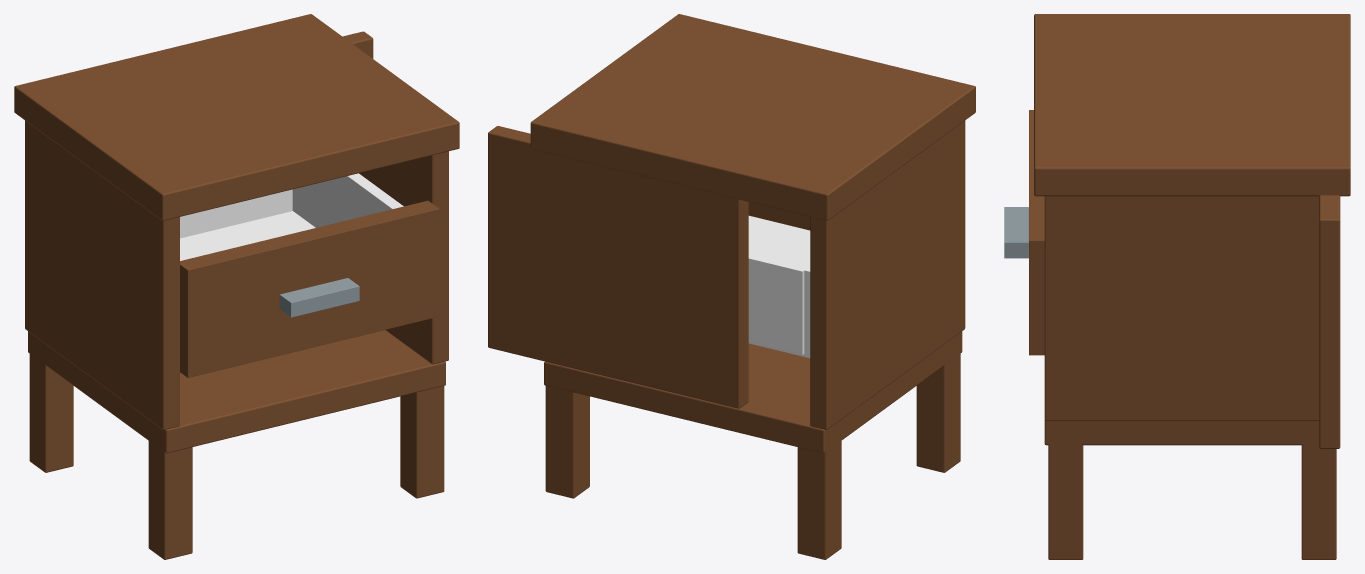
Rendered from source-edit.glb.
The picture shows the model from 3 angles, left to right: view 1: azimuth 30°, elevation 25°; view 2: azimuth 150°, elevation 25°; view 3: azimuth 270°, elevation 25°; orthographic projection. The views are drawn at different scales.
Visible parts, largest first — view 1: Top, Side, Drawer_Front, Bottom, Side.001, Leg, Leg.002, Leg.001, Drawer_Side.001, Drawer_Floor, Drawer_Back, Pull; view 2: Top, Back, Side, Bottom, Drawer_Back, Leg.001, Leg.003, Leg, Side.001, Drawer_Floor, Drawer_Front; view 3: Side.001, Top, Bottom, Back, Leg.002, Leg.003, Drawer_Front, Pull.
Boxes of the visible parts, x1,y1,x2,y2 form: Top: [14, 14, 459, 220]; Side: [25, 120, 179, 429]; Drawer_Front: [180, 200, 439, 377]; Bottom: [28, 330, 445, 453]; Side.001: [359, 151, 448, 364]; Leg: [148, 431, 192, 559]; Leg.002: [400, 386, 444, 498]; Leg.001: [29, 353, 73, 472]; Drawer_Side.001: [292, 173, 403, 227]; Drawer_Floor: [180, 211, 315, 260]; Drawer_Back: [180, 189, 292, 238]; Pull: [279, 278, 359, 317]; Top: [530, 14, 975, 220]; Back: [488, 126, 748, 408]; Side: [810, 120, 965, 429]; Bottom: [544, 331, 962, 453]; Drawer_Back: [748, 252, 808, 354]; Leg.001: [797, 440, 841, 559]; Leg.003: [545, 386, 589, 498]; Leg: [916, 346, 960, 472]; Side.001: [542, 151, 556, 364]; Drawer_Floor: [748, 215, 810, 358]; Drawer_Front: [748, 202, 810, 230]; Side.001: [1044, 196, 1318, 421]; Top: [1034, 14, 1350, 196]; Bottom: [1044, 420, 1318, 445]; Back: [1319, 195, 1340, 448]; Leg.002: [1048, 436, 1083, 559]; Leg.003: [1301, 444, 1336, 559]; Drawer_Front: [1029, 110, 1044, 355]; Pull: [1004, 207, 1028, 258].
Bounding box in the file's own units: 0.603 × 0.6225 × 0.4925.
